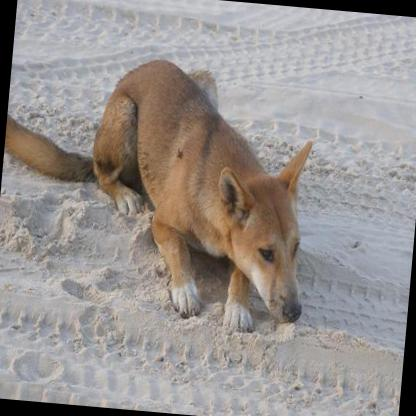dingo: (0, 40, 325, 338)
